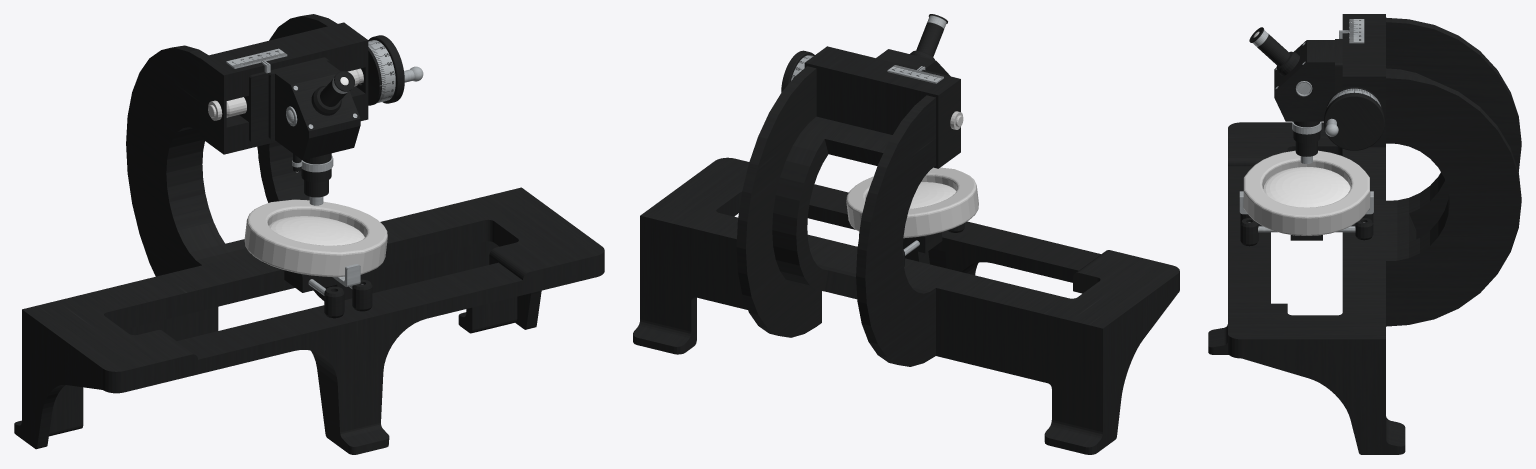
Rendered from phys_ready.fbx.
3 renders of one model, left to right at view 1: azimuth 30°, elevation 25°; view 2: azimuth 150°, elevation 25°; view 3: azimuth 270°, elevation 25°, orthographic. The views are drawn at different scales.
Visible parts, largest first — view 1: MainBody, Microscope, GlassRim, Glass, Rotator, ScalingTube, RotatorCover; view 2: MainBody, GlassRim, Microscope, Glass, Rotator; view 3: MainBody, Microscope, GlassRim, Rotator, Glass, ruler.
Part boxes in pixels (<box>): MainBody: <box>14,14,604,454</box>; Microscope: <box>239,57,360,205</box>; GlassRim: <box>244,199,387,277</box>; Glass: <box>269,216,364,245</box>; Rotator: <box>361,35,423,103</box>; ScalingTube: <box>208,68,363,120</box>; RotatorCover: <box>368,47,381,105</box>; MainBody: <box>633,46,1179,454</box>; GlassRim: <box>846,167,978,238</box>; Microscope: <box>876,14,950,76</box>; Glass: <box>909,182,956,208</box>; Rotator: <box>781,50,814,92</box>; MainBody: <box>1208,14,1521,454</box>; Microscope: <box>1249,27,1349,163</box>; GlassRim: <box>1243,150,1369,235</box>; Rotator: <box>1324,88,1384,150</box>; Glass: <box>1263,167,1350,207</box>; ruler: <box>1349,19,1364,43</box>.
Bounding box in the file's own units: 780 × 533 × 476.
